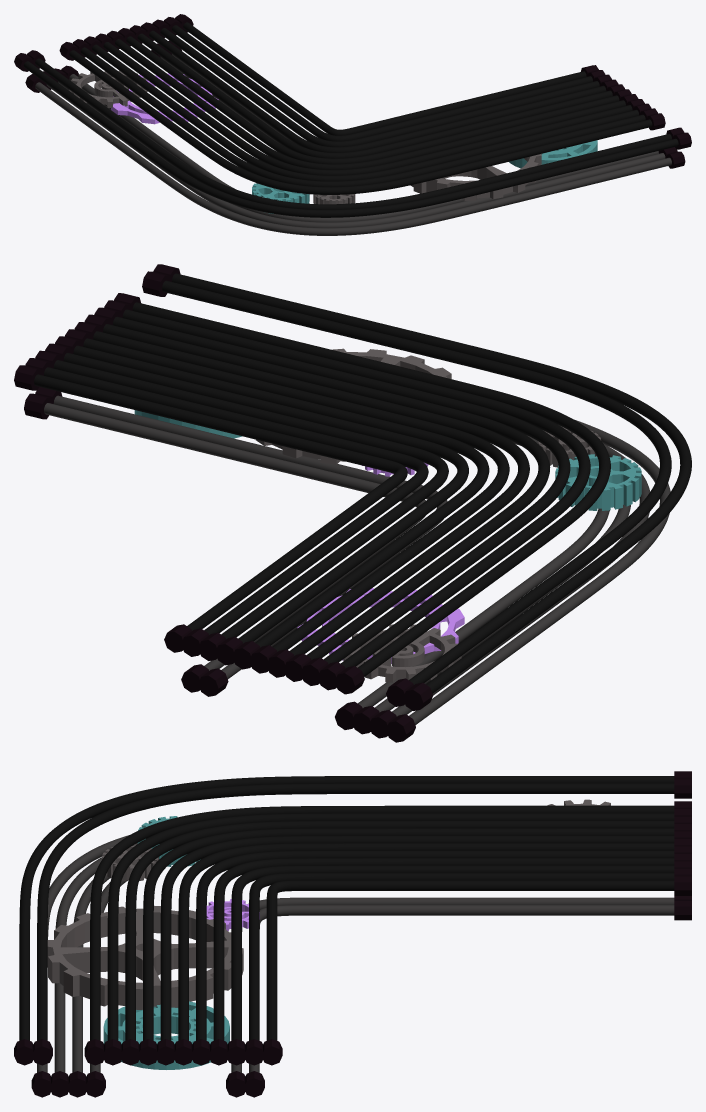
The model's file is st2_rail3.fbx.
3 renders of one model, top to bottom at view 1: azimuth 30°, elevation 25°; view 2: azimuth 150°, elevation 25°; view 3: azimuth 270°, elevation 25°, orthographic. The views are drawn at different scales.
Visible parts, largest first — view 1: 3_rail_pipe1, 3_rail_pipe2, 3_rail_pipe_tie1, 3_rail__gear1, 3_rail__gear6, 3_rail__gear5, 3_rail_pipe_tie2, 3_rail__gear2, 3_rail__gear4, 3_rail__gear3; view 2: 3_rail_pipe1, 3_rail_pipe2, 3_rail_pipe_tie1, 3_rail_pipe_tie2, 3_rail__gear4, 3_rail__gear6, 3_rail__gear1, 3_rail__gear5; view 3: 3_rail_pipe1, 3_rail_pipe2, 3_rail__gear1, 3_rail_pipe_tie1, 3_rail_pipe_tie2, 3_rail__gear2, 3_rail__gear3, 3_rail__gear7.
Boxes of the visible parts, x1,y1,x2,y2 form: 3_rail_pipe1: (23, 22, 678, 217); 3_rail_pipe2: (35, 53, 671, 235); 3_rail_pipe_tie1: (14, 14, 691, 149); 3_rail__gear1: (410, 154, 541, 200); 3_rail__gear6: (69, 70, 147, 107); 3_rail__gear5: (111, 73, 218, 124); 3_rail_pipe_tie2: (25, 40, 685, 168); 3_rail__gear2: (509, 140, 597, 168); 3_rail__gear4: (252, 183, 309, 213); 3_rail__gear3: (313, 194, 355, 204); 3_rail_pipe1: (34, 273, 691, 693); 3_rail_pipe2: (44, 395, 670, 724); 3_rail_pipe_tie1: (14, 264, 432, 710); 3_rail_pipe_tie2: (24, 387, 415, 742); 3_rail__gear4: (555, 454, 641, 510); 3_rail__gear6: (343, 624, 461, 682); 3_rail__gear1: (256, 348, 451, 464); 3_rail__gear5: (297, 588, 464, 663); 3_rail_pipe1: (19, 776, 674, 1040); 3_rail_pipe2: (37, 835, 674, 1072); 3_rail__gear1: (47, 905, 243, 1009); 3_rail_pipe_tie1: (14, 771, 691, 1065); 3_rail_pipe_tie2: (31, 896, 691, 1097); 3_rail__gear2: (103, 1001, 229, 1069); 3_rail__gear3: (102, 844, 158, 881); 3_rail__gear7: (206, 899, 259, 931).
Size of the model in its own units: 1869 by 164 by 1919.
